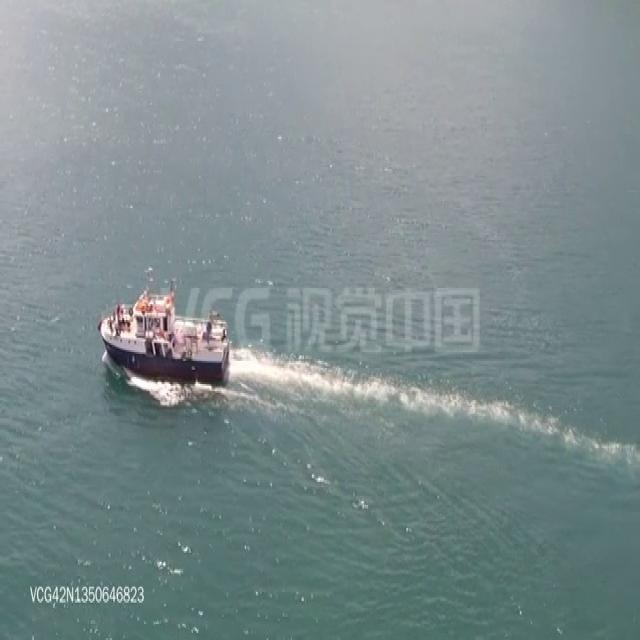houseboat: (97, 274, 235, 377)
